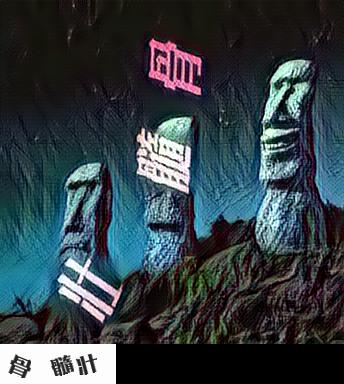character: (51, 250, 126, 328), (130, 123, 198, 198), (140, 34, 210, 98)
